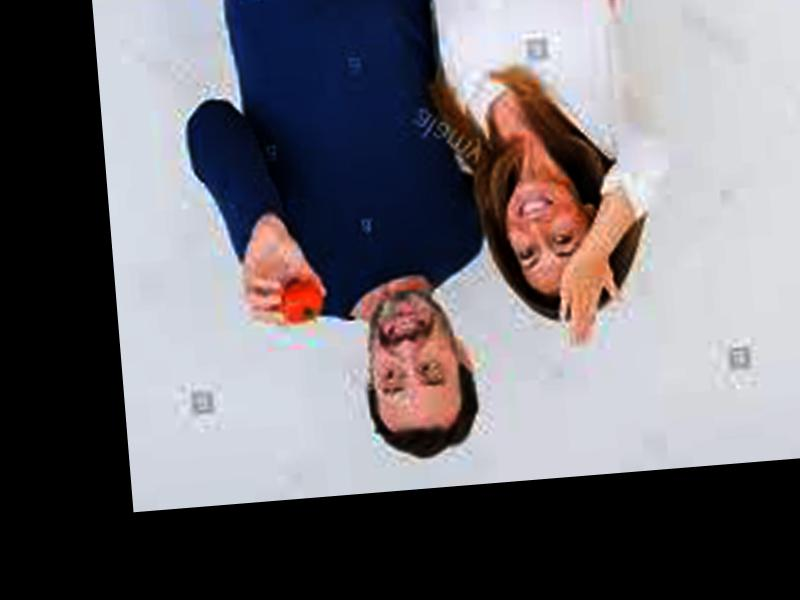Tomato: (281, 281, 324, 328)
